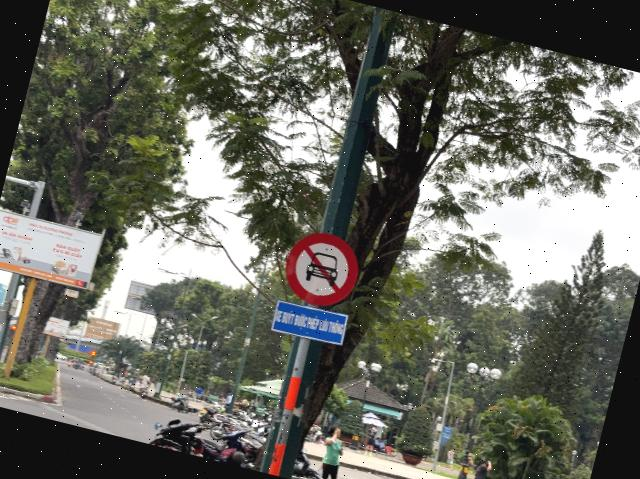cam-o-to: (279, 226, 366, 313)
